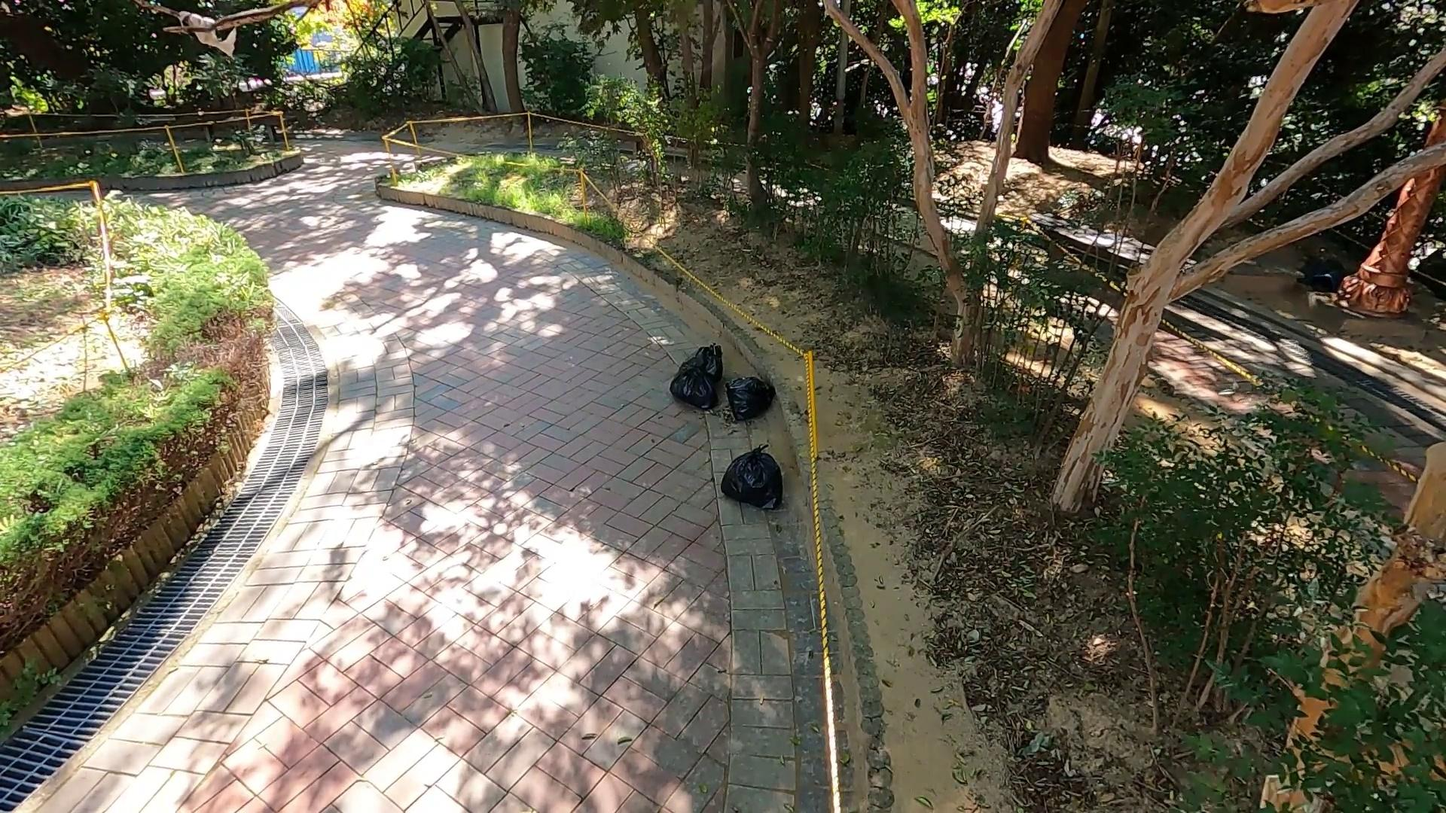trash: (720, 439, 788, 517), (673, 353, 720, 414), (722, 377, 779, 418), (684, 342, 727, 394)
